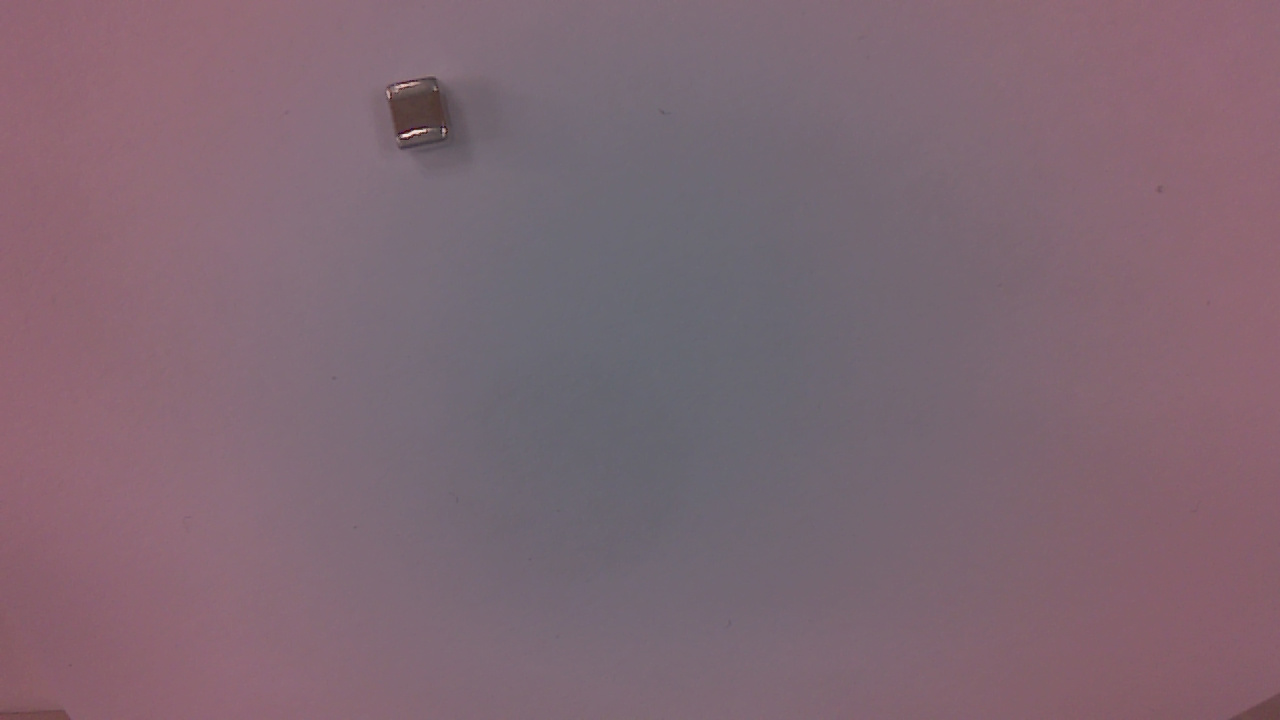Condensator: (389, 77, 457, 159)
